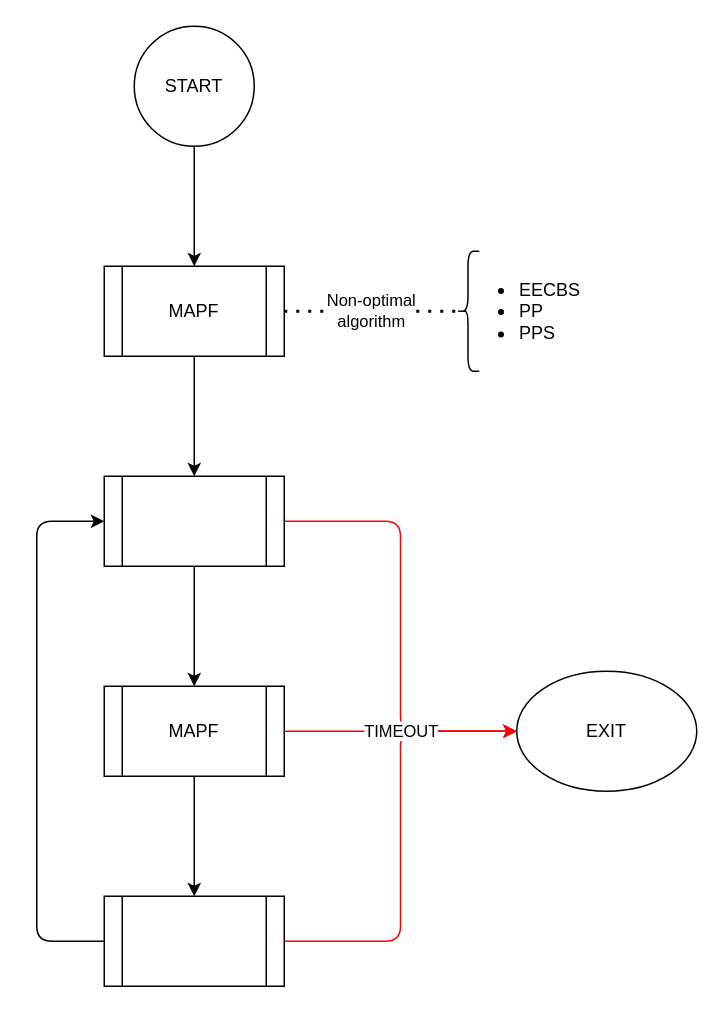
This 723x1013 diagram has some shape labels left out. Each missing label, with the centre of its shape:
"Compare with old result and get best one" goes at point 193,940.
"Isolate neighborhood (LNS)" goes at point 193,520.
